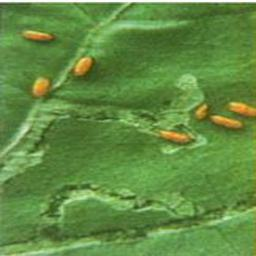liriomyza: (210, 113, 244, 133), (228, 98, 256, 118), (71, 55, 94, 77), (160, 128, 190, 144), (20, 30, 56, 43), (31, 74, 50, 98), (194, 102, 209, 120)
